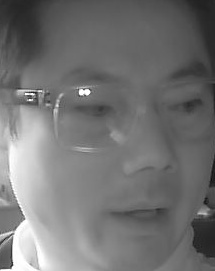eye: (70, 100, 114, 121), (167, 94, 204, 117)
glass: (53, 83, 137, 153), (155, 79, 215, 146)
mouth: (108, 195, 174, 236)
